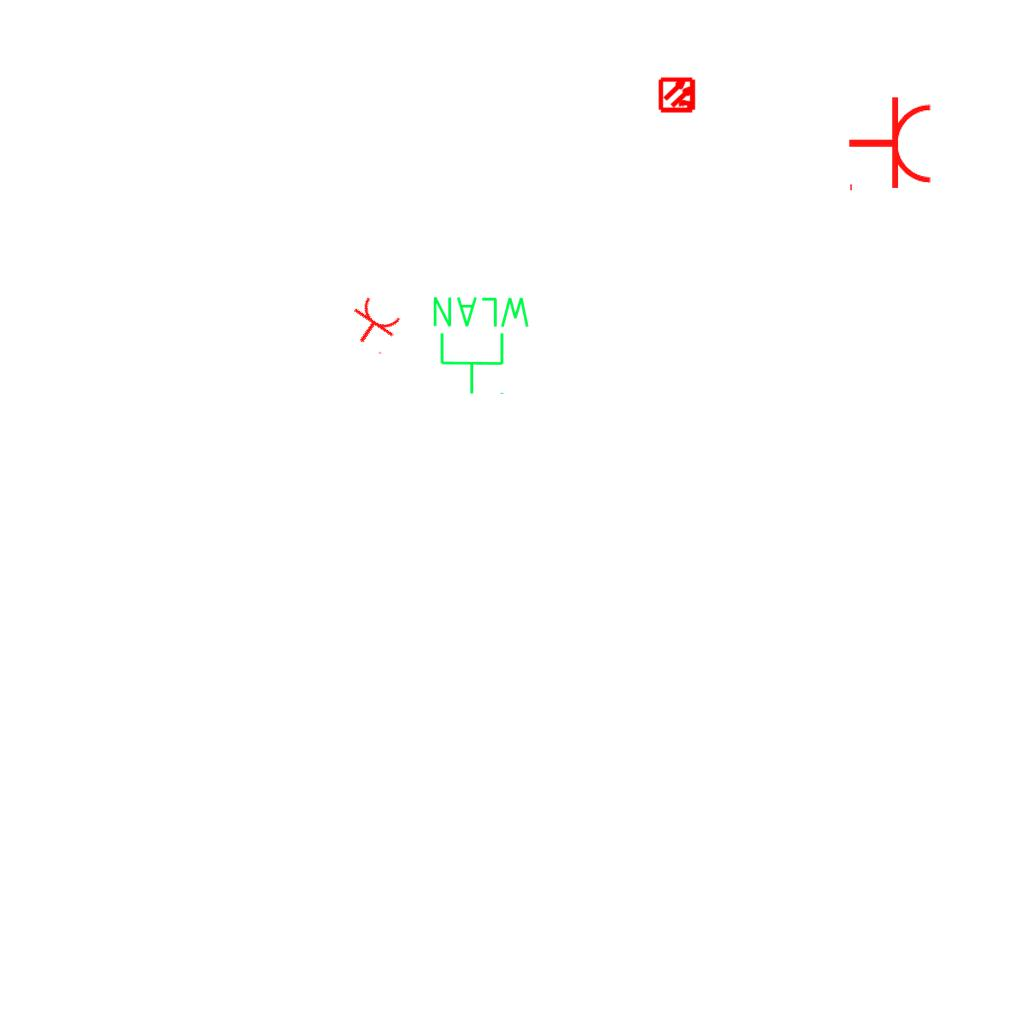OT_Multisensormelder_(Kombination_RMO_WMD): (650, 67, 706, 123)
Schukosteckdose_einfach: (847, 95, 934, 195), (340, 293, 407, 357)
WLAN: (429, 293, 534, 397)
